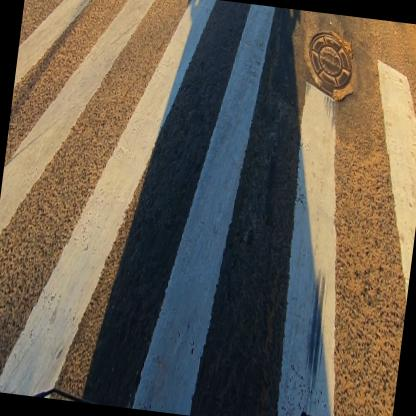manholes: (299, 23, 363, 117)
